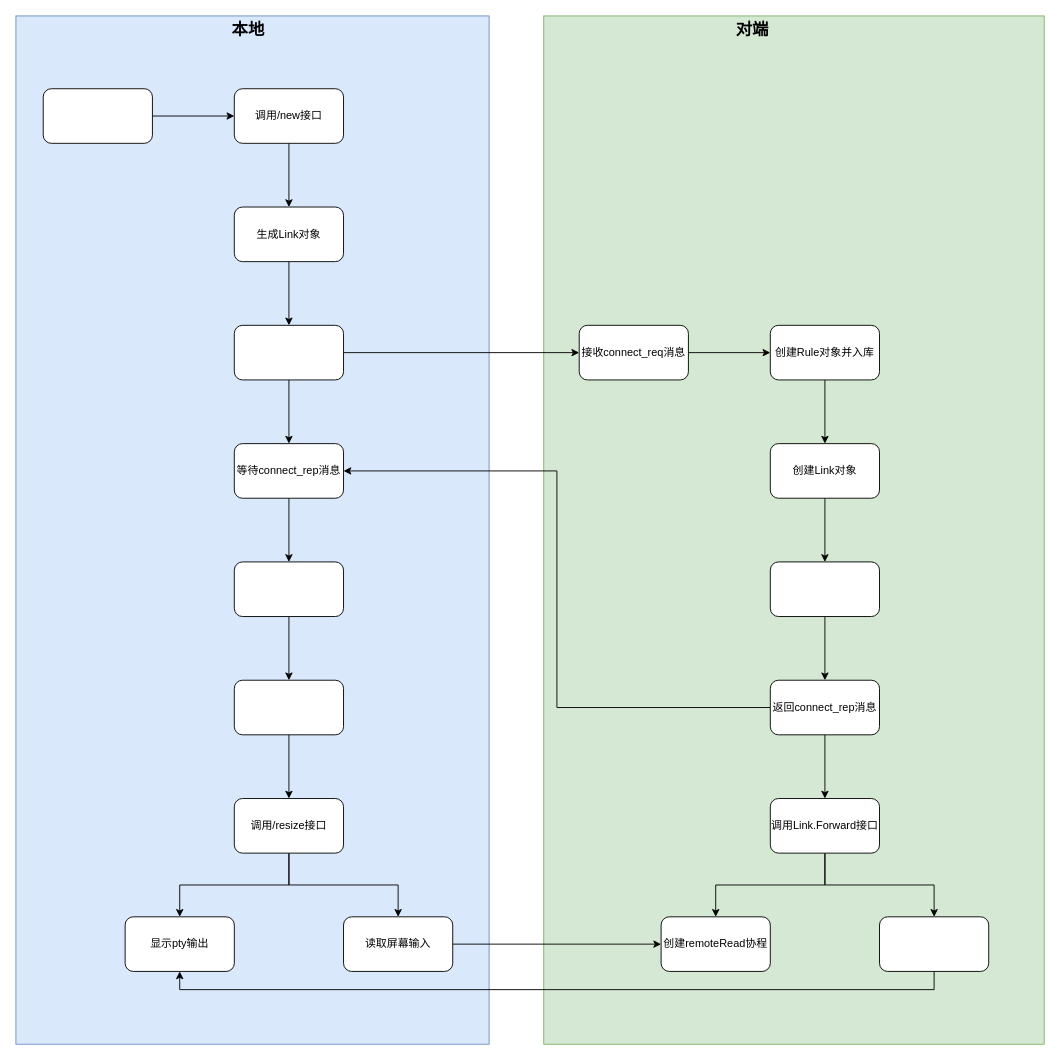
The diagram is 1060 pixels wide and 1060 high, and some of its shapes have lost their labels. The shapes that lost their labels are listed below. From the top down, each one's box as (x1, y1, x2, y2) in pixels, then its label:
(42, 88, 152, 143): 终端页面点击连接
(233, 324, 344, 380): 发送connect_req消息
(233, 561, 344, 617): /new接口返回连接ID
(769, 561, 880, 617): 调用Link.Exec接口
(233, 679, 344, 735): 创建websocket到/ws/<连接ID>
(879, 916, 989, 971): 创建localRead协程
